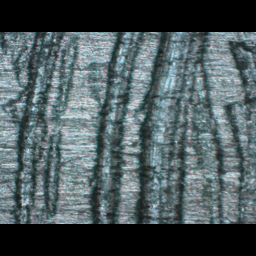d: (0, 32, 81, 224), (130, 32, 210, 224), (84, 32, 144, 224)
